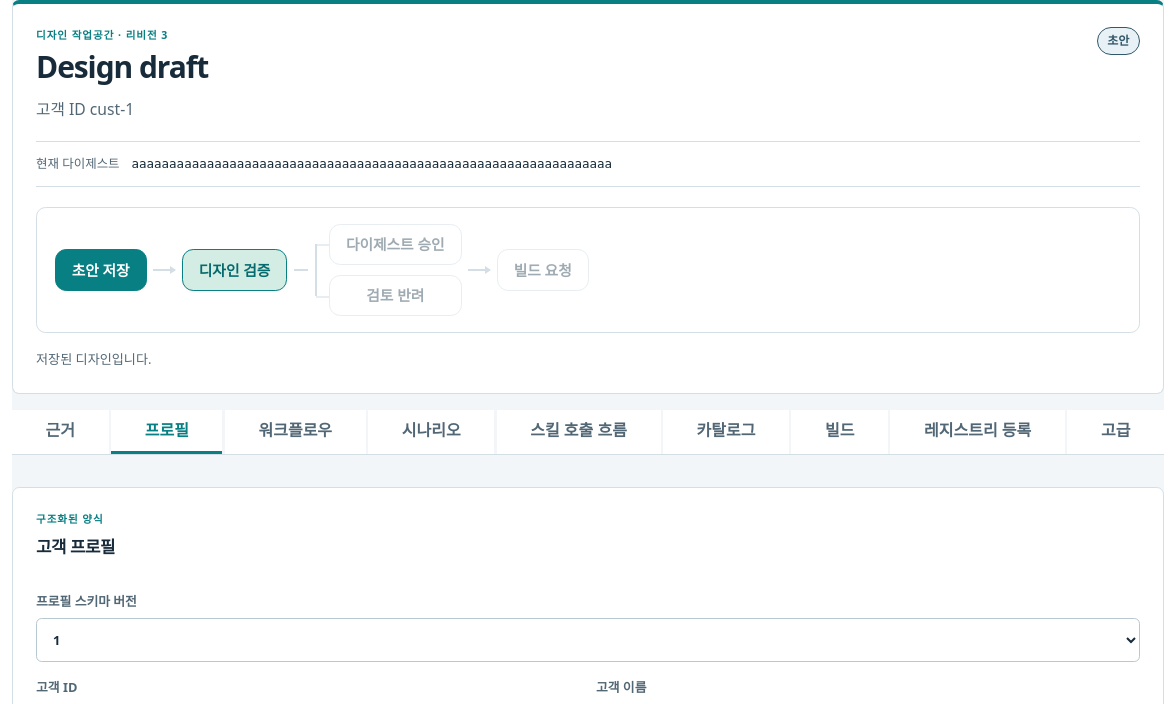
StudioDesignPageContent › validates a draft through the real design endpoint
The width and height of the screenshot is (1176, 704).
Expected: the heading "Design draft" is shown, [36, 50, 208, 83]
Click the button "디자인 검증".
click(235, 270)  # box [182, 249, 287, 291]
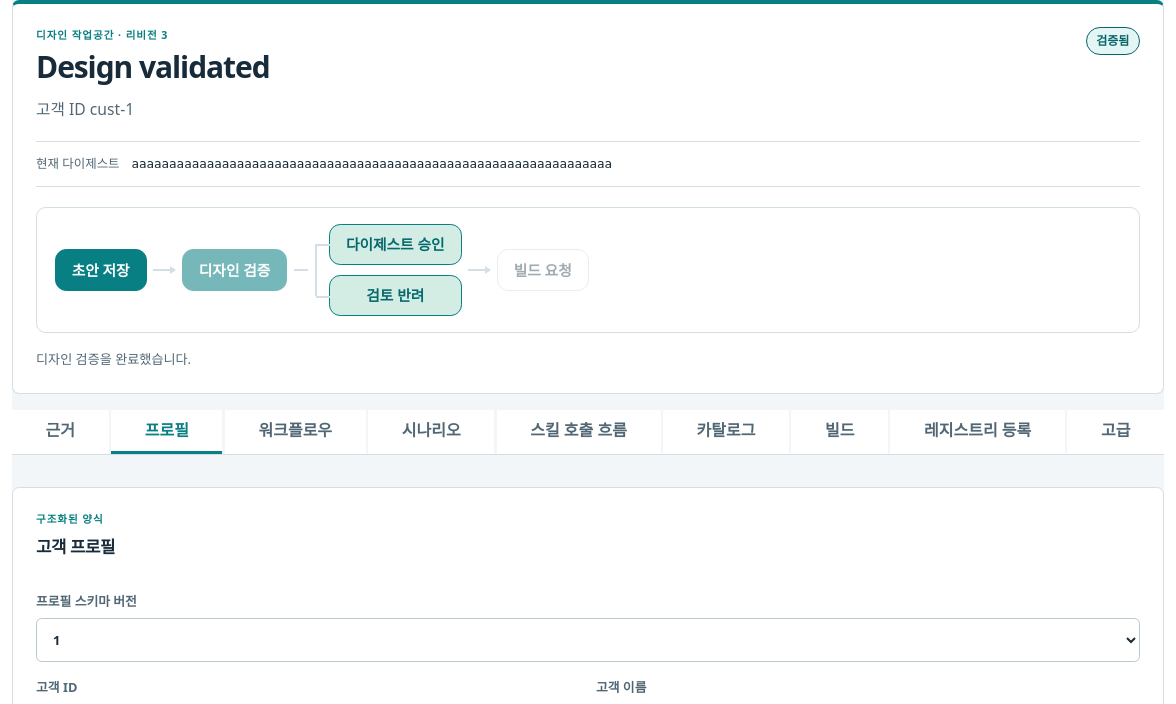
Result: the text "검증됨" is shown at [1086, 27, 1140, 55]
